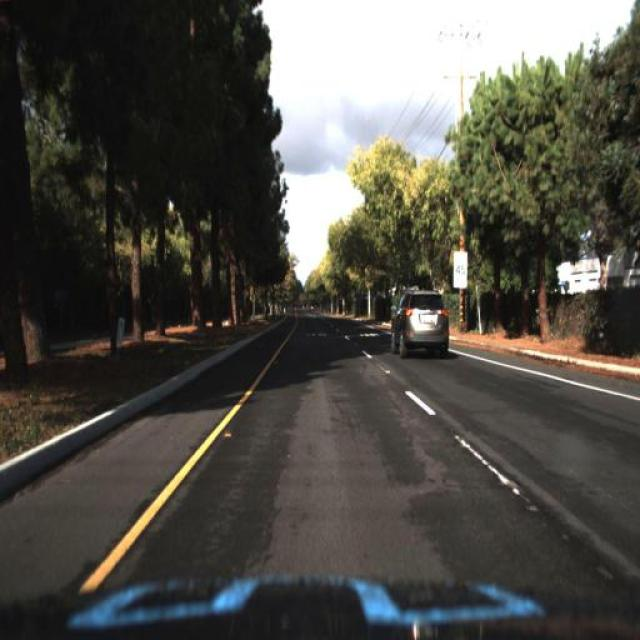car: (390, 287, 450, 361)
